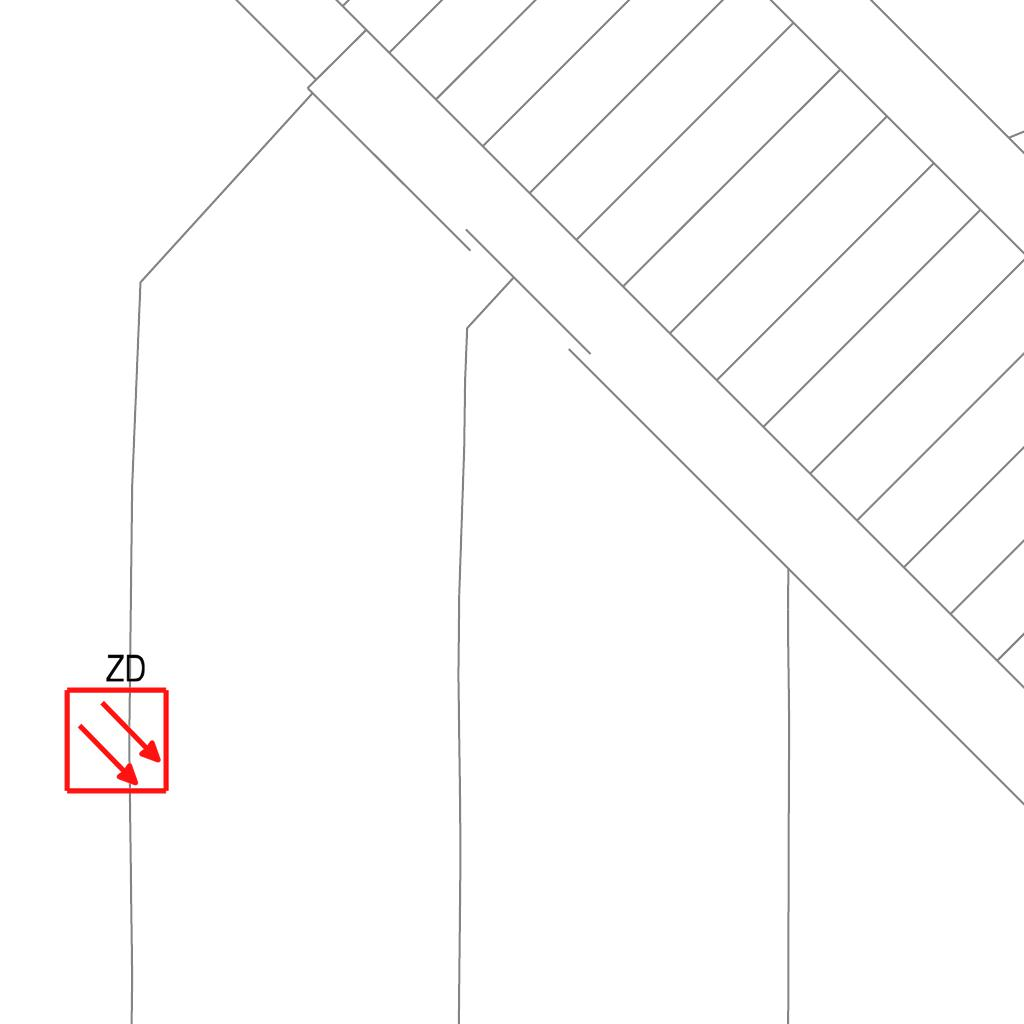ZD_Melder_in_Zwischendecke_mit_Revisionsoeffnung_mind_40_x_40_cm: (58, 647, 172, 796)
